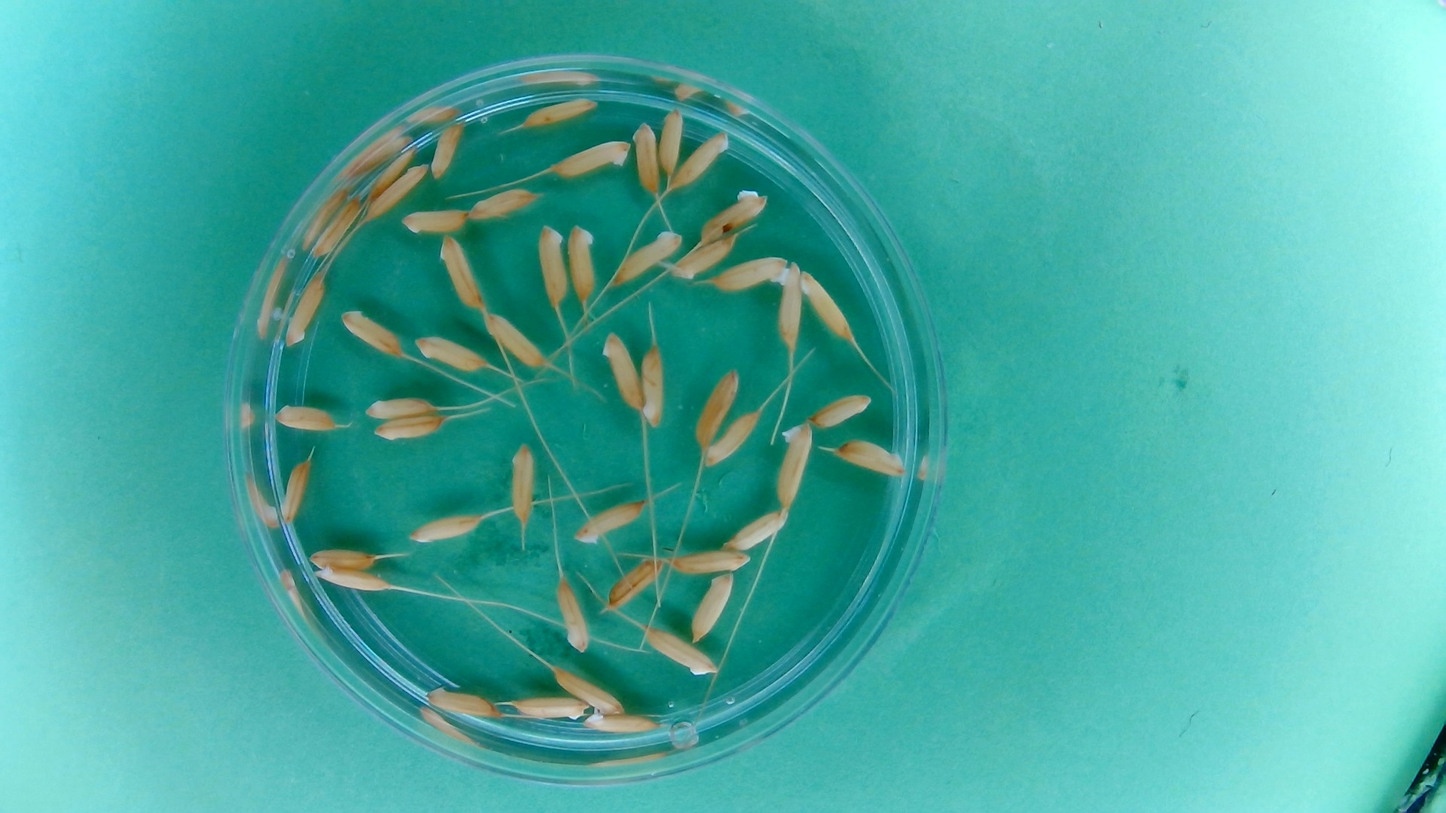no: (609, 227, 685, 288), (667, 126, 734, 193), (798, 265, 856, 342), (363, 159, 432, 222), (697, 185, 770, 243), (480, 309, 550, 369), (692, 365, 740, 451), (642, 626, 718, 678), (773, 419, 816, 510), (309, 191, 366, 259), (667, 231, 742, 282), (436, 233, 485, 311), (602, 553, 664, 614), (701, 406, 762, 468), (337, 305, 407, 359), (571, 497, 646, 547), (599, 329, 644, 412), (550, 665, 624, 715), (548, 136, 631, 180), (708, 252, 792, 294), (283, 271, 328, 349), (688, 570, 735, 644), (831, 435, 909, 479), (412, 330, 487, 373), (721, 507, 791, 552), (520, 91, 600, 130), (534, 221, 569, 307), (423, 684, 502, 721), (554, 576, 591, 653), (465, 185, 541, 222), (566, 221, 599, 306), (773, 262, 805, 349), (805, 391, 875, 430), (506, 441, 538, 523), (407, 510, 483, 544), (666, 547, 752, 577), (638, 343, 668, 429), (630, 117, 662, 196), (277, 455, 313, 525), (428, 118, 466, 181), (507, 693, 587, 722), (580, 710, 664, 737), (310, 564, 391, 592), (272, 400, 338, 434), (360, 393, 440, 421), (399, 205, 471, 235), (371, 414, 445, 443), (656, 105, 686, 176), (371, 148, 412, 198), (306, 544, 378, 571)
